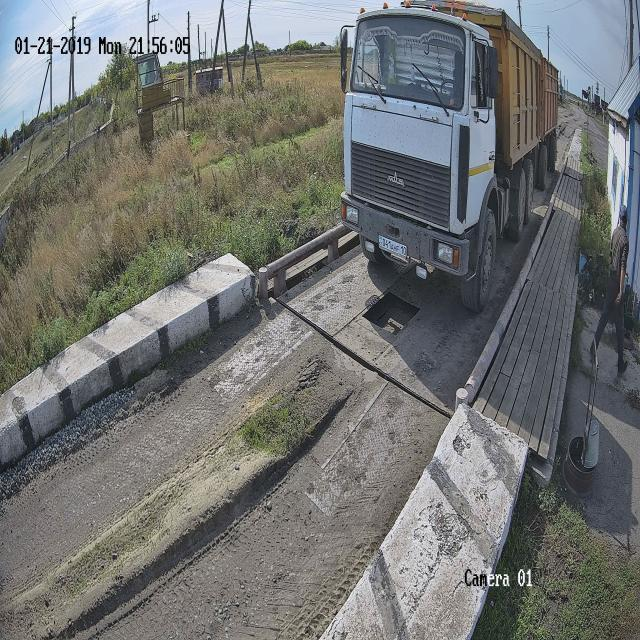license plate: (378, 235, 407, 258)
trailer: (453, 1, 558, 189), (458, 3, 543, 166), (538, 57, 558, 170), (435, 0, 451, 13), (436, 1, 450, 12), (454, 9, 455, 14)
truck: (341, 0, 557, 311)
